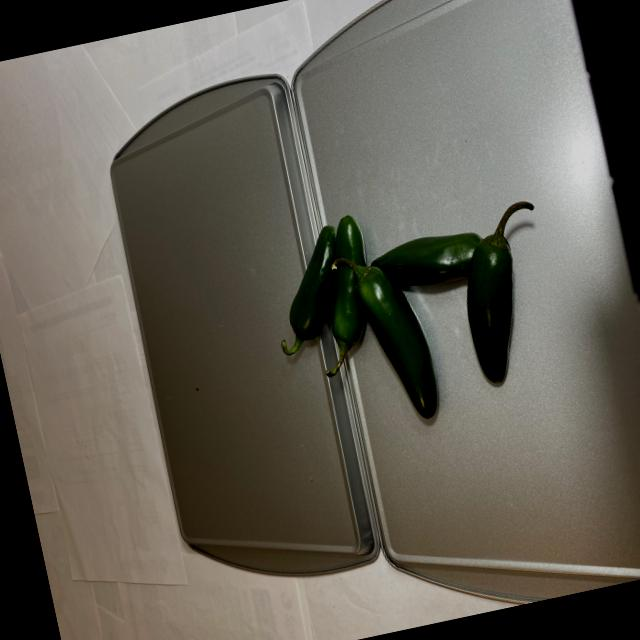chilli: (254, 186, 562, 450)
